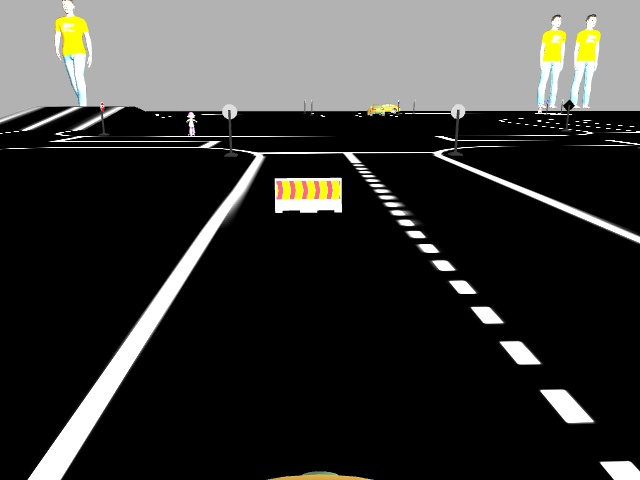ClosedRoadStand: (275, 177, 341, 212)
